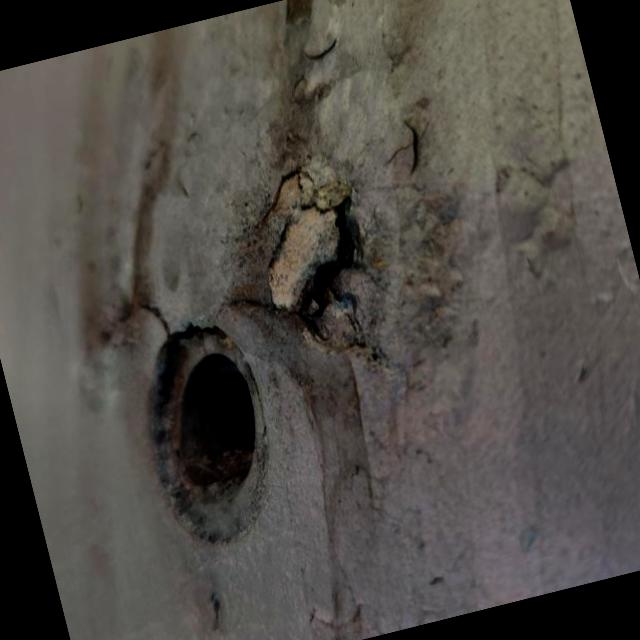crack: (192, 144, 418, 384)
